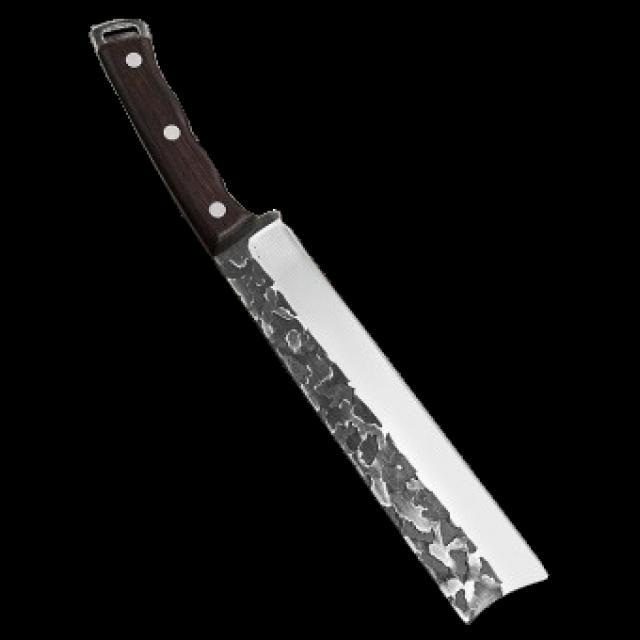knife: (83, 16, 560, 627)
